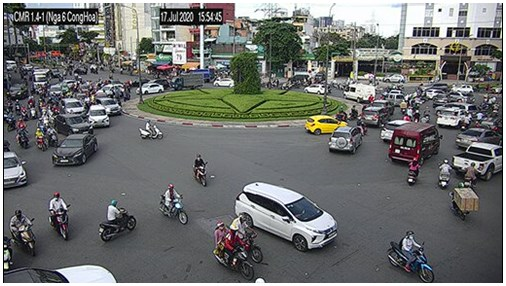xe_ban_tai: (451, 142, 501, 182)
xe_hoi: (235, 182, 338, 253), (53, 133, 98, 167), (329, 126, 363, 155), (53, 114, 94, 138), (455, 126, 501, 147), (305, 114, 348, 135), (3, 151, 26, 189), (379, 119, 412, 141), (436, 101, 475, 118), (437, 109, 470, 127), (87, 106, 110, 129), (362, 107, 388, 127), (61, 97, 86, 117), (94, 97, 120, 115), (445, 90, 476, 103), (96, 84, 125, 95), (135, 83, 163, 94), (7, 83, 28, 97), (383, 72, 406, 84), (375, 98, 394, 112), (303, 84, 328, 94), (147, 78, 169, 88), (421, 89, 444, 98), (431, 94, 446, 106), (213, 78, 235, 86), (48, 84, 64, 95), (61, 79, 79, 86)
xe_khach: (386, 123, 440, 165), (343, 84, 375, 101)
xe_may: (213, 221, 255, 281), (387, 231, 434, 282), (97, 199, 139, 244), (230, 213, 263, 263), (10, 209, 37, 257), (158, 183, 187, 225), (46, 191, 69, 239), (452, 183, 476, 222), (192, 153, 208, 189), (139, 119, 164, 140), (463, 162, 478, 188), (438, 159, 450, 190), (407, 157, 420, 185), (17, 126, 29, 150), (35, 129, 46, 152), (48, 124, 57, 145), (7, 113, 18, 130), (472, 109, 482, 127), (462, 110, 471, 129), (17, 116, 28, 131), (41, 108, 50, 126), (278, 80, 291, 90), (350, 103, 358, 119), (338, 106, 346, 121), (30, 102, 38, 117), (413, 109, 420, 125), (399, 98, 406, 114), (21, 104, 28, 119), (424, 106, 430, 123), (38, 117, 44, 133), (15, 97, 20, 111), (367, 93, 373, 103), (403, 112, 408, 119)
xe_tai: (30, 67, 51, 92), (170, 77, 203, 90)
